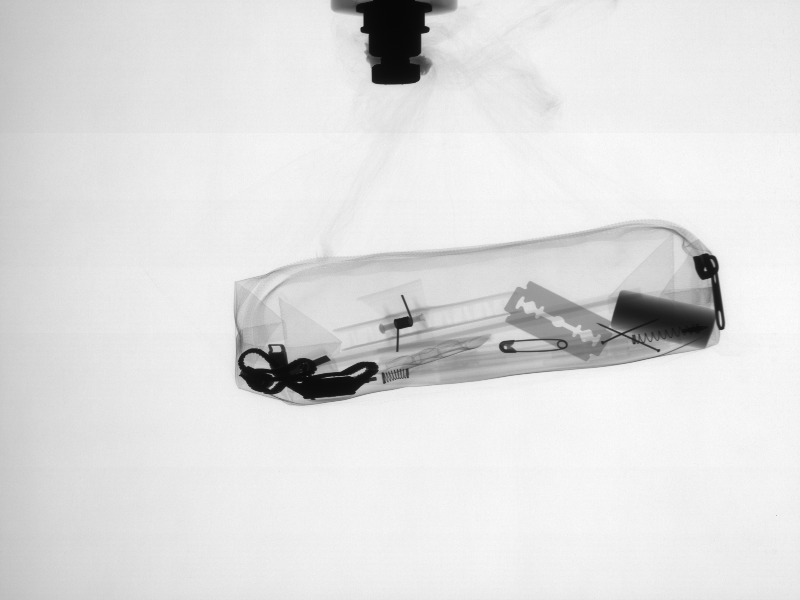bobby pin: (495, 337, 573, 353)
needle: (595, 318, 664, 352)
rasor blade: (512, 283, 613, 360)
rope: (239, 336, 379, 400)
string: (632, 331, 708, 343)
